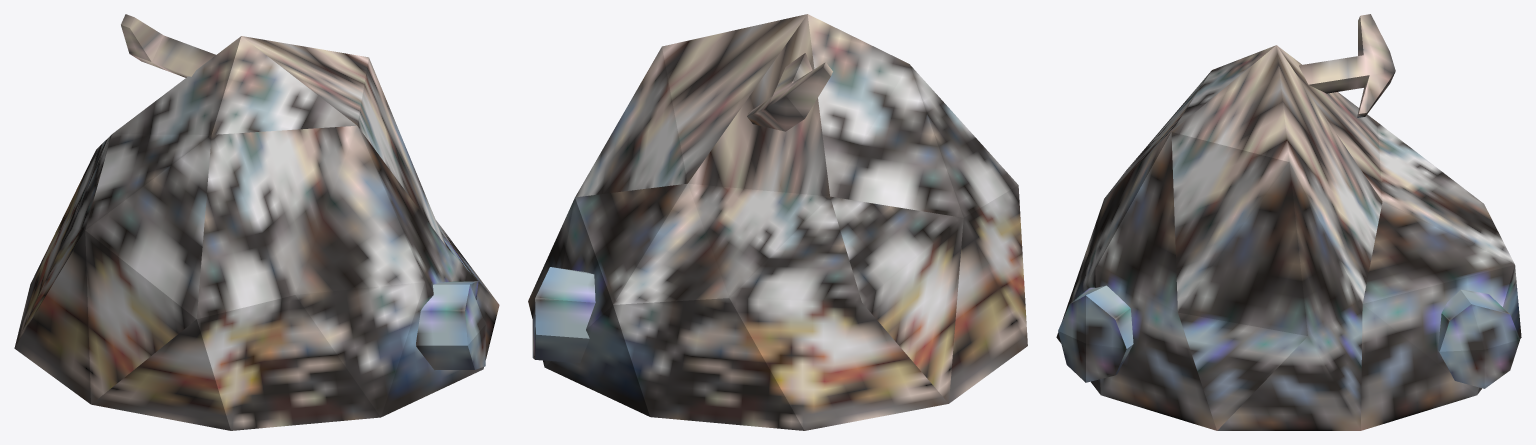
File: Poly_SF_Outside_B_Waste_01.obj
3 renders of one model, left to right at view 1: azimuth 30°, elevation 25°; view 2: azimuth 150°, elevation 25°; view 3: azimuth 270°, elevation 25°, orthographic. The views are drawn at different scales.
Visible parts, largest first — view 1: Cube.002, Cube.001; view 2: Cube.002, Cube.001; view 3: Cube.002, Cube.001.
Part boxes in pixels (x1,y1,x2,y2): Cube.002: (14, 36, 499, 430); Cube.001: (121, 14, 485, 370); Cube.002: (528, 14, 1027, 430); Cube.001: (532, 53, 832, 363); Cube.002: (1056, 45, 1521, 430); Cube.001: (1058, 14, 1519, 388).
Bounding box in the file's own units: 0.9208 × 0.651 × 0.9682.
Materials: 1 (1 with a texture image).
